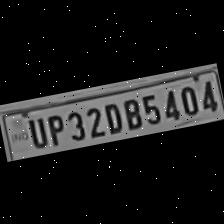0: (176, 80, 200, 116)
2: (81, 102, 105, 138)
3: (61, 106, 86, 142)
4: (158, 84, 182, 122), (196, 76, 220, 113)
5: (138, 88, 162, 127)
B: (118, 94, 142, 131)
D: (100, 98, 124, 134)
P: (42, 110, 68, 146)
U: (22, 114, 48, 148)
